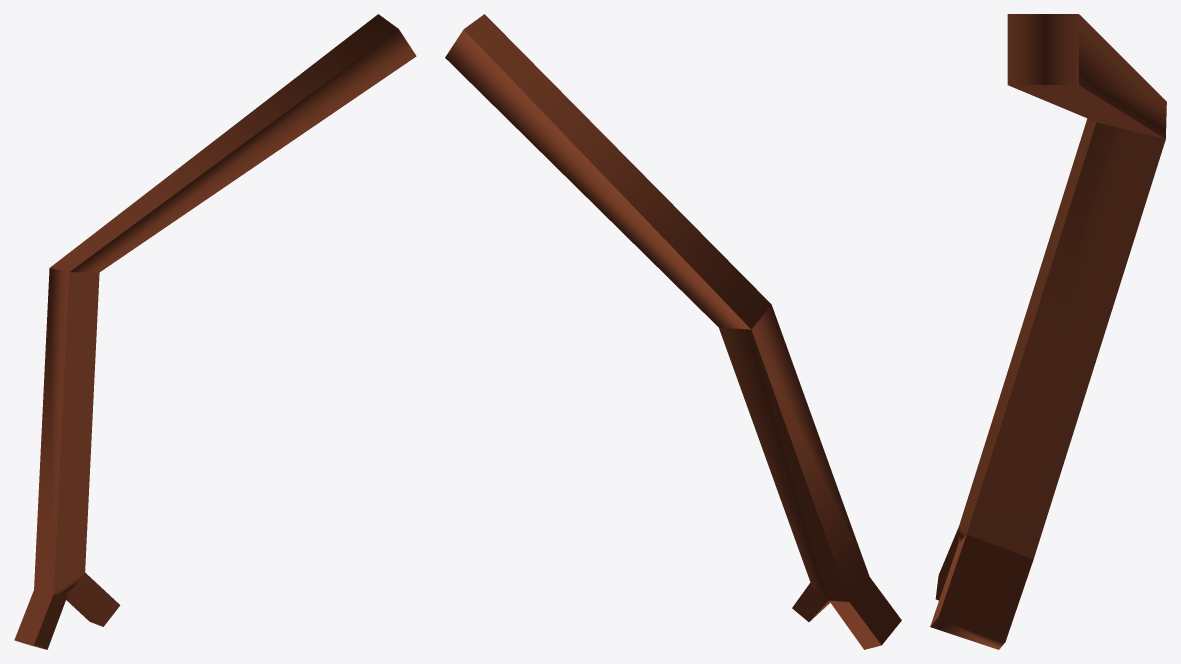
The model's file is armLeft.fbx.
The picture shows the model from 3 angles, left to right: view 1: azimuth 30°, elevation 25°; view 2: azimuth 150°, elevation 25°; view 3: azimuth 270°, elevation 25°; orthographic projection. The views are drawn at different scales.
Parts seen in each view (by area): view 1: armLeft; view 2: armLeft; view 3: armLeft.
Part boxes in pixels (<box>): armLeft: <box>14,14,416,649</box>; armLeft: <box>445,14,901,649</box>; armLeft: <box>930,14,1166,649</box>.
Size of the model in its own units: 114 by 143 by 33.16.
